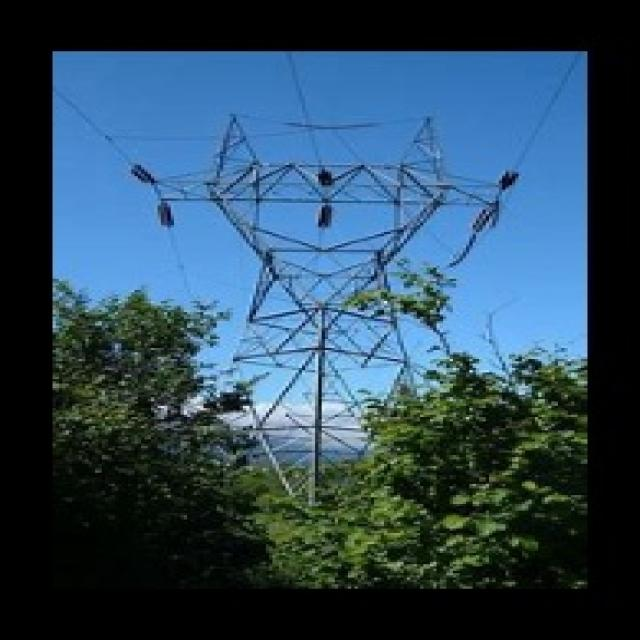utility poles: (323, 266, 530, 474), (125, 274, 294, 517)
